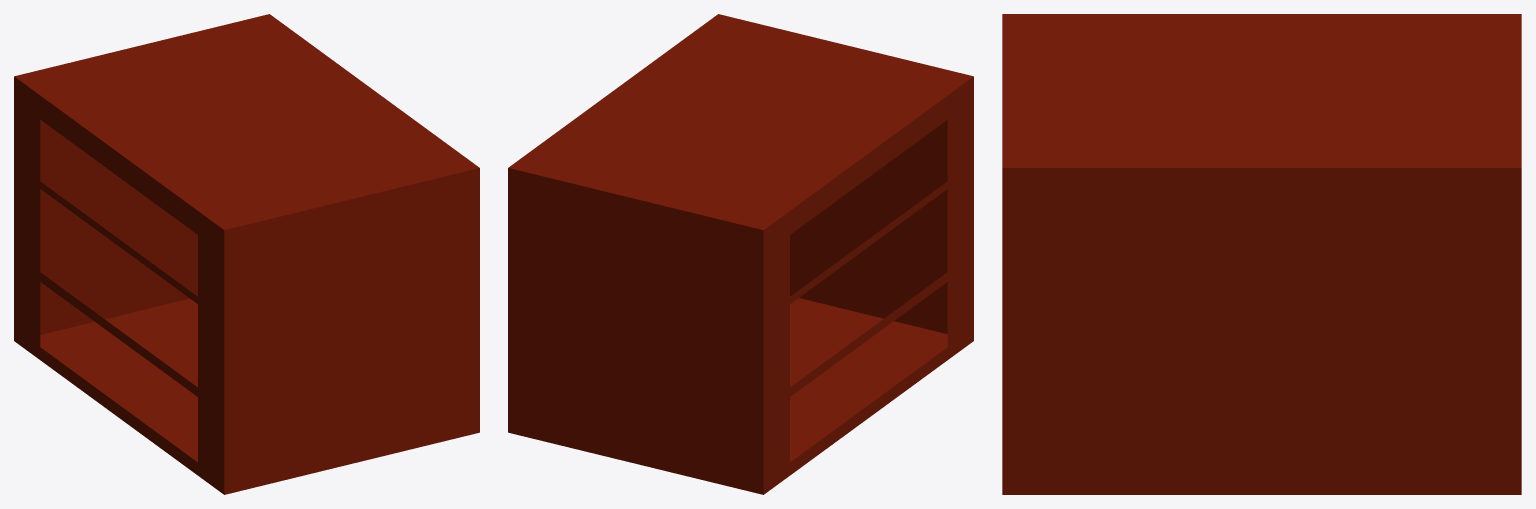
The model's file is Dresser.FBX.
The picture shows the model from 3 angles, left to right: view 1: azimuth 30°, elevation 25°; view 2: azimuth 150°, elevation 25°; view 3: azimuth 270°, elevation 25°; orthographic projection. The views are drawn at different scales.
Parts seen in each view (by area): view 1: Dresser; view 2: Dresser; view 3: Dresser.
Part boxes in pixels (box(x1,y1,x2,y2)): Dresser: box(14, 14, 479, 494); Dresser: box(508, 14, 973, 494); Dresser: box(1002, 14, 1521, 494).
Bounding box in the file's own units: 40.14 × 57.2 × 39.74.
